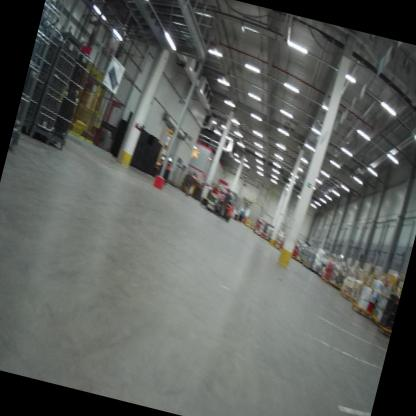pallet_truck: (194, 184, 238, 226), (152, 149, 176, 183)
